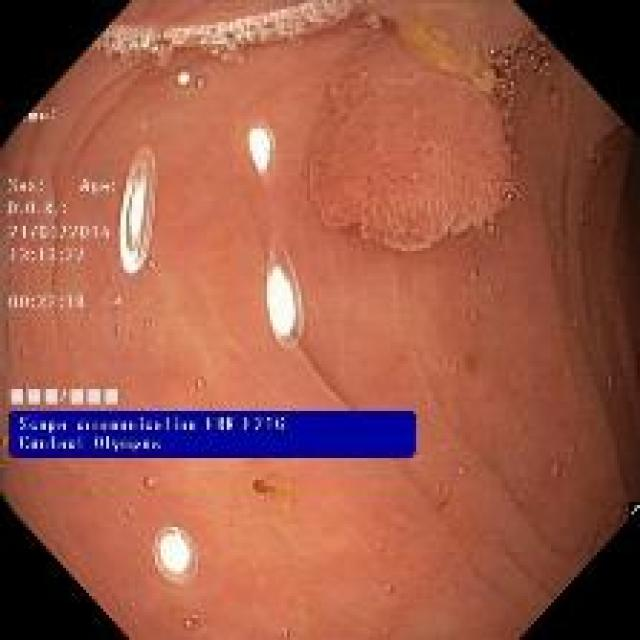Polyps: (310, 38, 516, 252)
